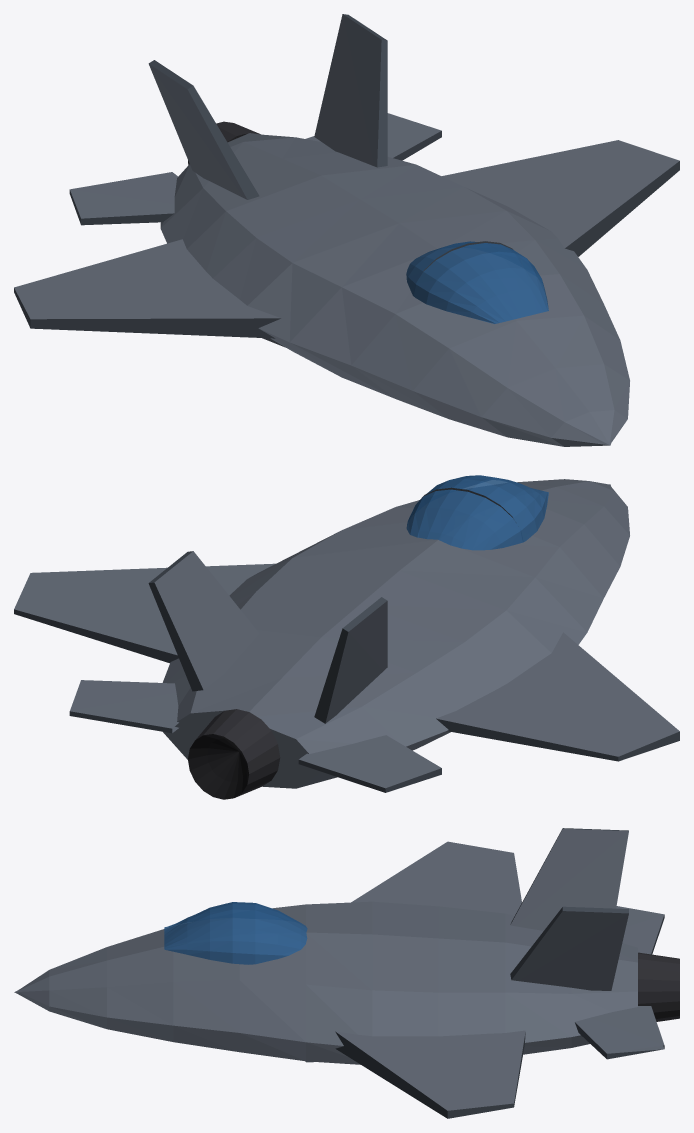
Rendered from toy_f35_jet.obj.
The picture shows the model from 3 angles, top to bottom: view 1: azimuth 30°, elevation 25°; view 2: azimuth 150°, elevation 25°; view 3: azimuth 270°, elevation 25°; orthographic projection. The views are drawn at different scales.
Bounding box in the file's own units: 14.4 × 4.17 × 15.05.
